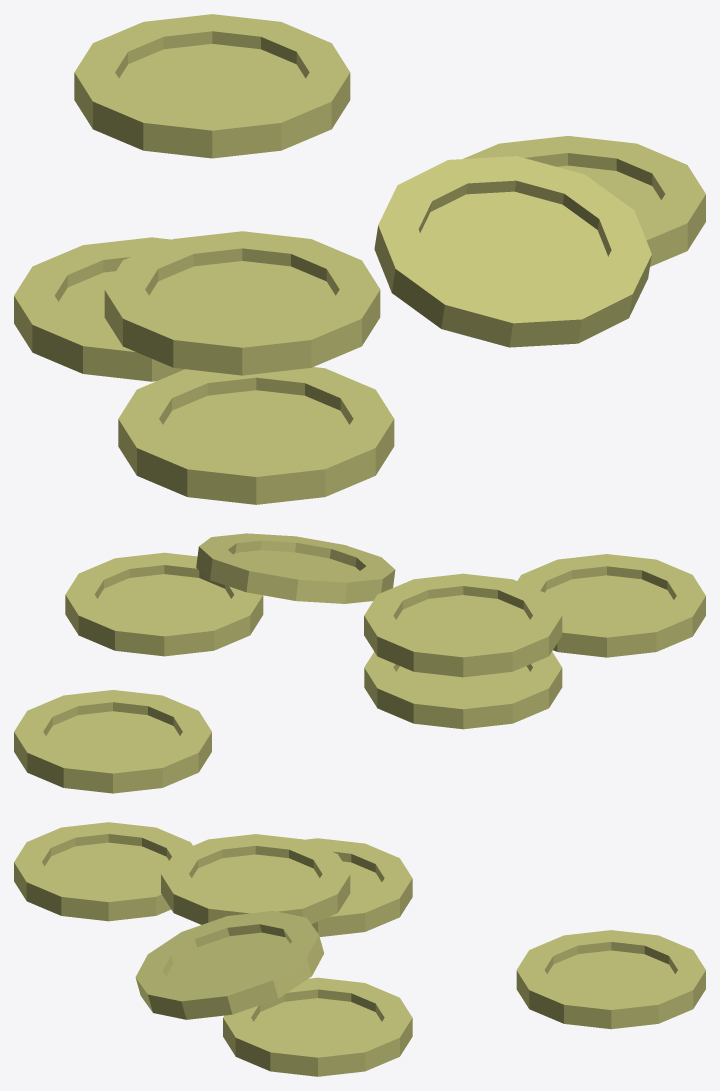
File: pileOfCoins.fbx
The picture shows the model from 3 angles, top to bottom: view 1: azimuth 30°, elevation 25°; view 2: azimuth 150°, elevation 25°; view 3: azimuth 270°, elevation 25°; orthographic projection. The views are drawn at different scales.
Parts seen in each view (by area): view 1: pCylinder8; view 2: pCylinder8; view 3: pCylinder8.
Boxes of the visible parts, x1,y1,x2,y2 form: pCylinder8: (14,14,705,504); pCylinder8: (14,533,705,793); pCylinder8: (14,822,705,1076).
Bounding box in the file's own units: 6.69 × 0.8214 × 8.3.
